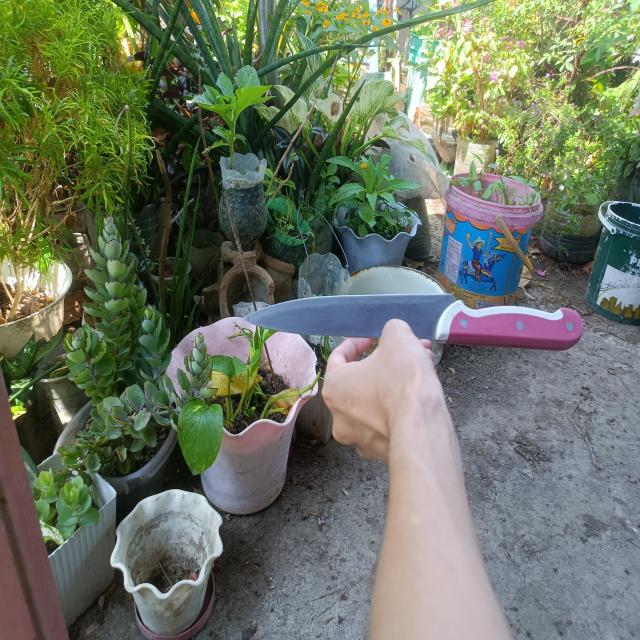knife: (243, 292, 582, 352)
